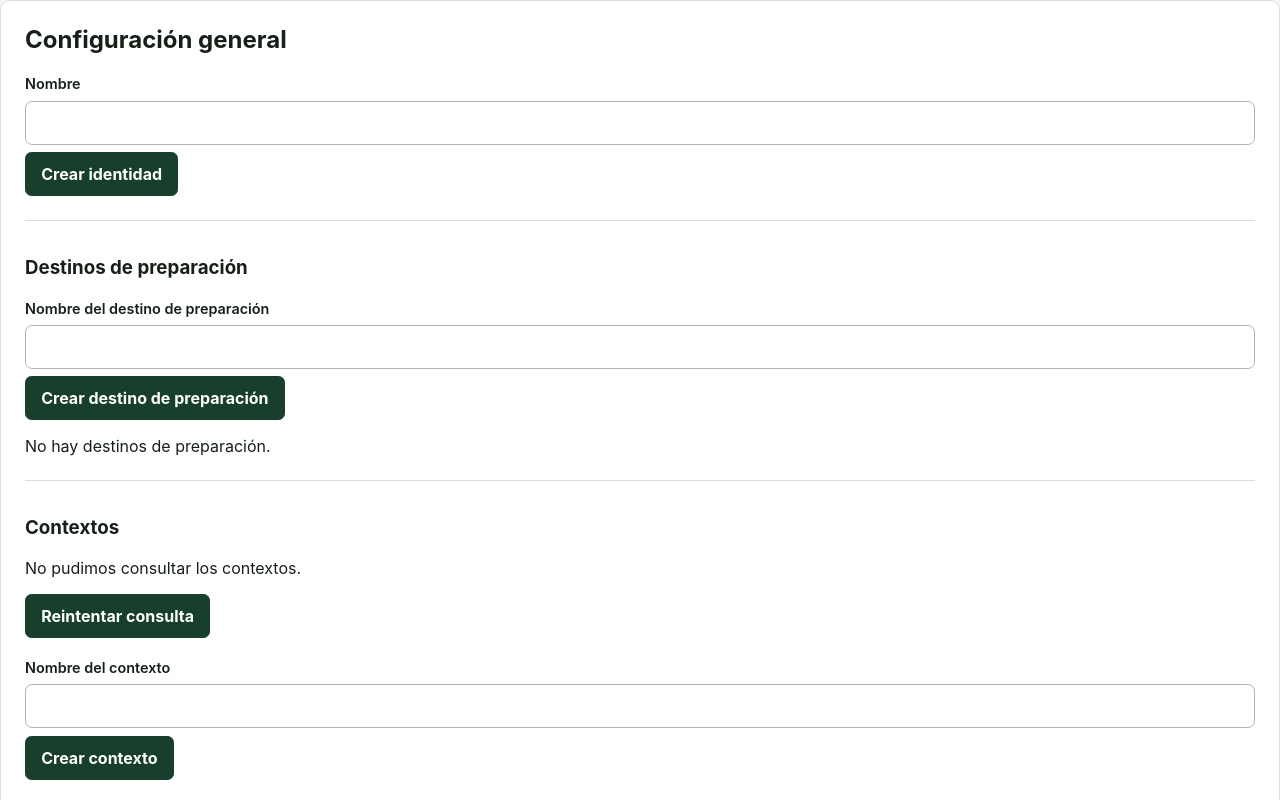
Test: GeneralConfigurationPanel › orients the new Identity from its returned state without assigning access or enablements
The width and height of the screenshot is (1280, 800).
Type "Nueva" into the field labelled "Nombre" at (640, 123), box [25,101,1255,145]
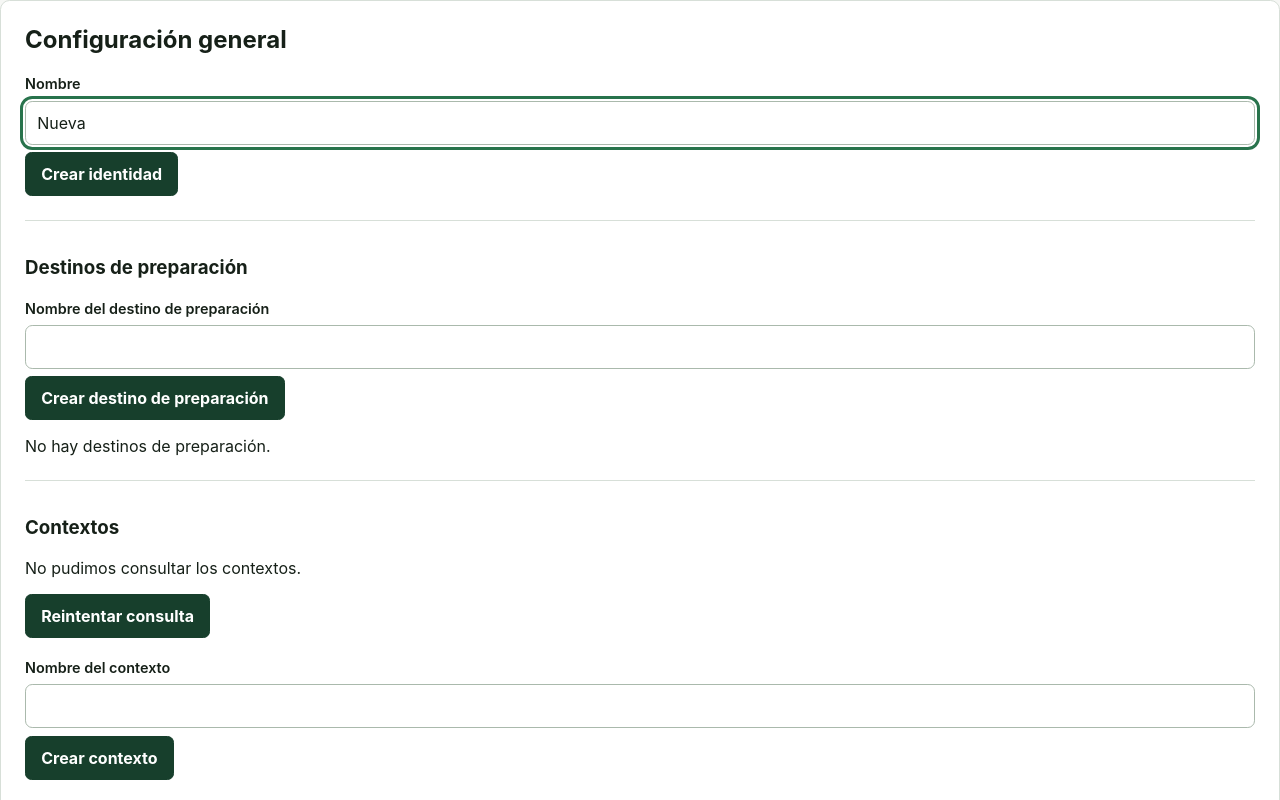
Click the button "Crear identidad" at (102, 174), box [25,152,178,196]
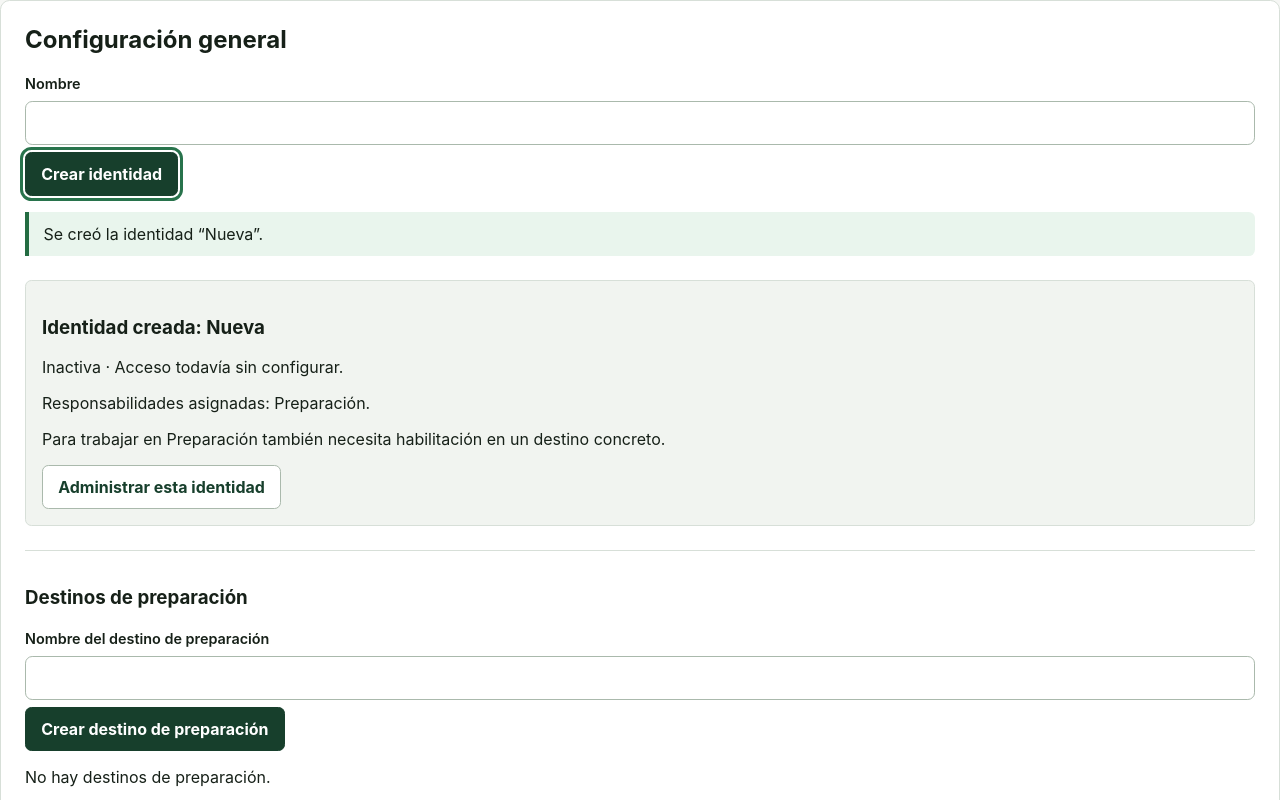
Check: the element named "Estado de Nueva" shows "Inactiva · Acceso todavía sin configurar", box [25,280,1255,526]
Check: the element named "Estado de Nueva" shows "Preparación", box [42,393,370,413]
Check: the element named "Estado de Nueva" shows "habilitación en un destino concreto", box [42,429,665,449]
